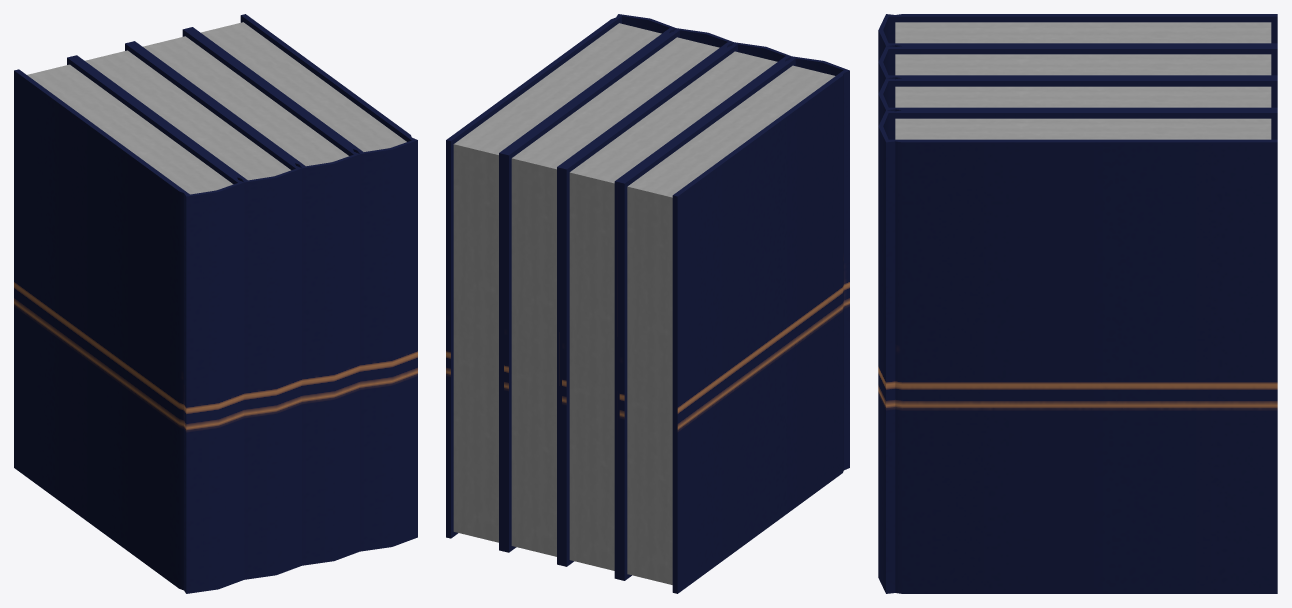
File: Prop_Books_Stacks_1.fbx
The picture shows the model from 3 angles, left to right: view 1: azimuth 30°, elevation 25°; view 2: azimuth 150°, elevation 25°; view 3: azimuth 270°, elevation 25°; orthographic projection. The views are drawn at different scales.
Parts seen in each view (by area): view 1: Prop_Books_Stacks_1; view 2: Prop_Books_Stacks_1; view 3: Prop_Books_Stacks_1.
Boxes of the visible parts, x1,y1,x2,y2 form: Prop_Books_Stacks_1: (14,14,417,593); Prop_Books_Stacks_1: (446,14,849,593); Prop_Books_Stacks_1: (878,14,1277,593).
Size of the model in its own units: 0.1011 by 0.1658 by 0.1328.
